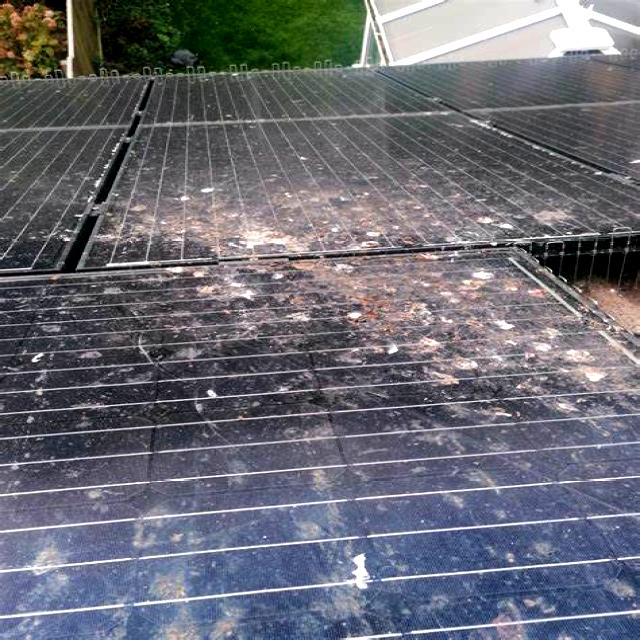bird: (240, 161, 450, 251), (438, 295, 604, 398), (66, 204, 184, 333), (260, 250, 380, 368), (128, 374, 300, 456), (0, 535, 123, 640), (465, 167, 605, 250), (0, 322, 70, 436), (321, 534, 398, 594)
